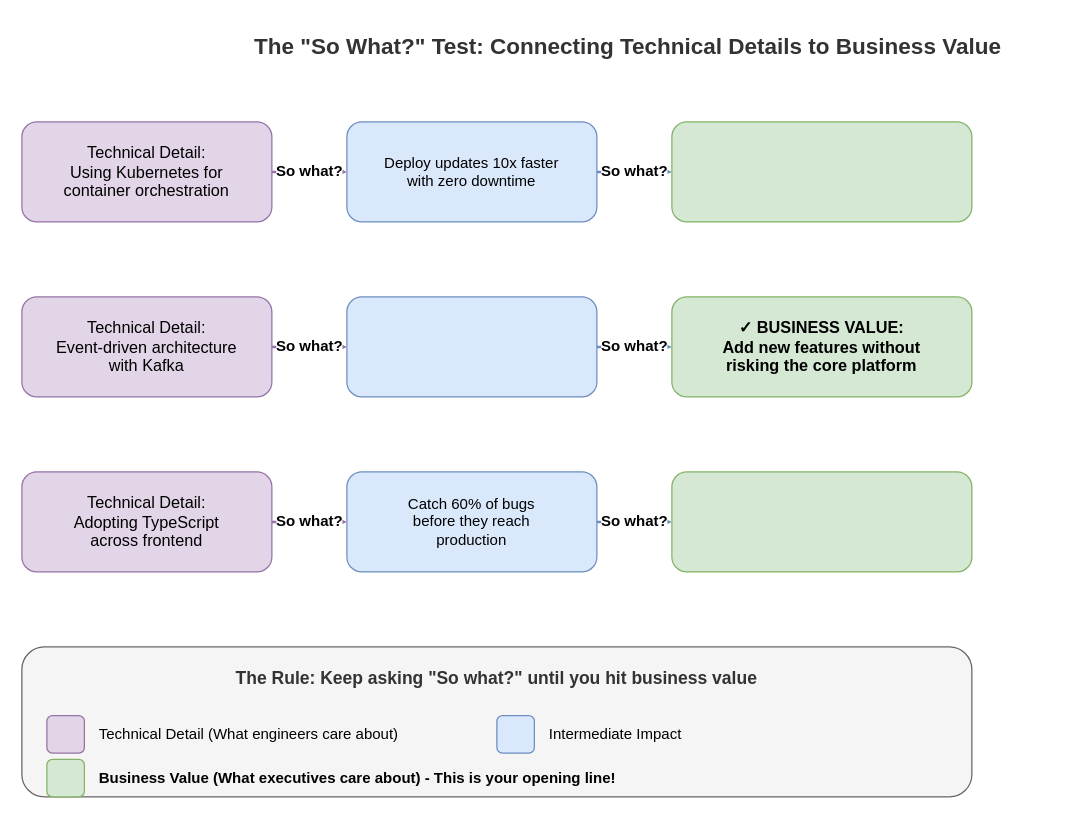
This 1086x819 diagram has some shape labels left out. The shapes that lost their labels are listed below. From the top down, each one's centre as x and y in pixels, then its label:
At pixel 821 171: "✓ BUSINESS VALUE: Respond to customer feedback within days instead of weeks".
At pixel 471 346: "Systems process data independently without blocking each other".
At pixel 821 521: "✓ BUSINESS VALUE: Fewer customer-facing incidents and faster feature delivery".
